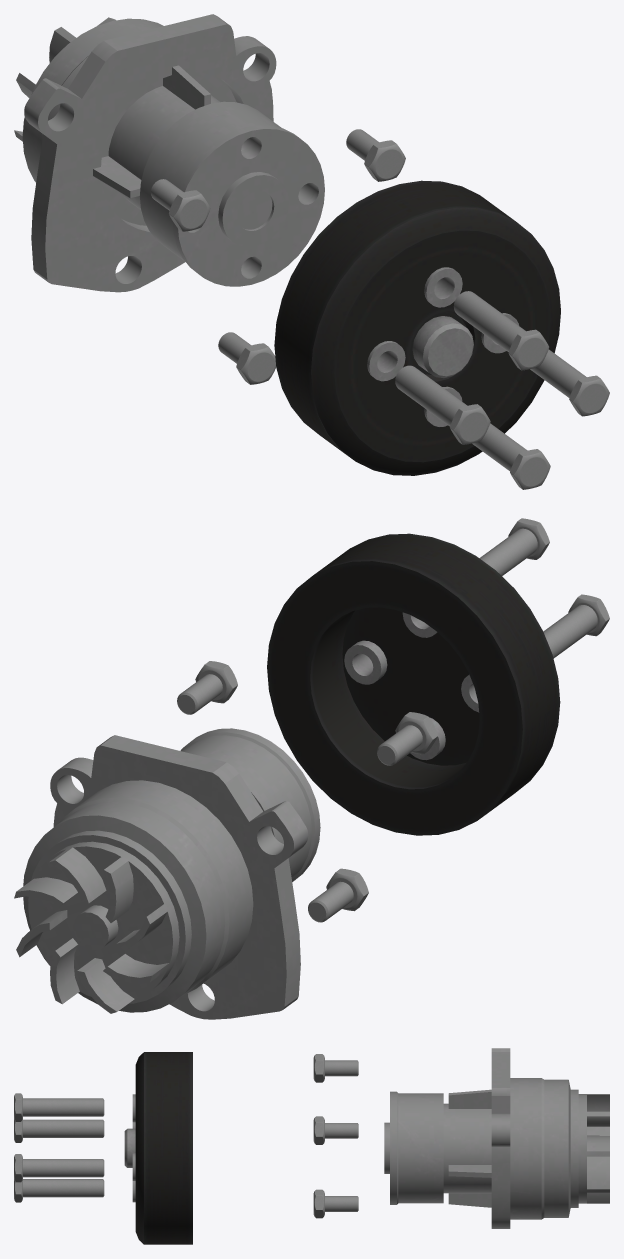
The model's file is waterpumpNPulley.glb.
3 views of the same model, one above another, from view 1: azimuth 30°, elevation 25°; view 2: azimuth 150°, elevation 25°; view 3: azimuth 270°, elevation 25° (orthographic). The views are drawn at different scales.
Parts seen in each view (by area): view 1: v8_pompa_wody(0), rolka_pompy_wody(0), srubaSilnikDluga_0, Obj_srubaSilnikDluga1_1, Obj_srubaSilnikDluga_0, Obj_srubaSilnikDluga1, Obj_srubaSilnik1, srubaSilnik_0, Obj_srubaSilnik_0; view 2: v8_pompa_wody(0), rolka_pompy_wody(0), srubaSilnikDluga_0, Obj_srubaSilnikDluga1_1, srubaSilnik_0, Obj_srubaSilnik1, Obj_srubaSilnik_0; view 3: v8_pompa_wody(0), rolka_pompy_wody(0), Obj_srubaSilnikDluga1_1, Obj_srubaSilnikDluga_0, srubaSilnikDluga_0, Obj_srubaSilnikDluga1, srubaSilnik_0, Obj_srubaSilnik_0, Obj_srubaSilnik1.
Boxes of the visible parts, box(x1,y1,x2,y2) form: v8_pompa_wody(0): box(14, 14, 324, 292); rolka_pompy_wody(0): box(274, 180, 560, 475); srubaSilnikDluga_0: box(395, 365, 490, 444); Obj_srubaSilnikDluga1_1: box(453, 291, 549, 370); Obj_srubaSilnikDluga_0: box(530, 349, 609, 416); Obj_srubaSilnikDluga1: box(472, 423, 550, 489); Obj_srubaSilnik1: box(346, 129, 405, 181); srubaSilnik_0: box(151, 179, 210, 231); Obj_srubaSilnik_0: box(218, 332, 276, 384); v8_pompa_wody(0): box(14, 728, 320, 1019); rolka_pompy_wody(0): box(267, 533, 560, 835); srubaSilnikDluga_0: box(543, 594, 609, 658); Obj_srubaSilnikDluga1_1: box(479, 518, 549, 575); srubaSilnik_0: box(377, 712, 437, 765); Obj_srubaSilnik1: box(177, 661, 237, 714); Obj_srubaSilnik_0: box(308, 868, 368, 922); v8_pompa_wody(0): box(384, 1048, 609, 1228); rolka_pompy_wody(0): box(124, 1052, 192, 1244); Obj_srubaSilnikDluga1_1: box(14, 1093, 104, 1121); Obj_srubaSilnikDluga_0: box(14, 1154, 104, 1182); srubaSilnikDluga_0: box(14, 1119, 104, 1142); Obj_srubaSilnikDluga1: box(14, 1179, 104, 1202); srubaSilnik_0: box(313, 1054, 358, 1082); Obj_srubaSilnik_0: box(313, 1189, 358, 1218); Obj_srubaSilnik1: box(313, 1116, 358, 1144).
Size of the model in its own units: 0.00229 by 0.00218 by 0.00671.
2 materials, 2 textured.
